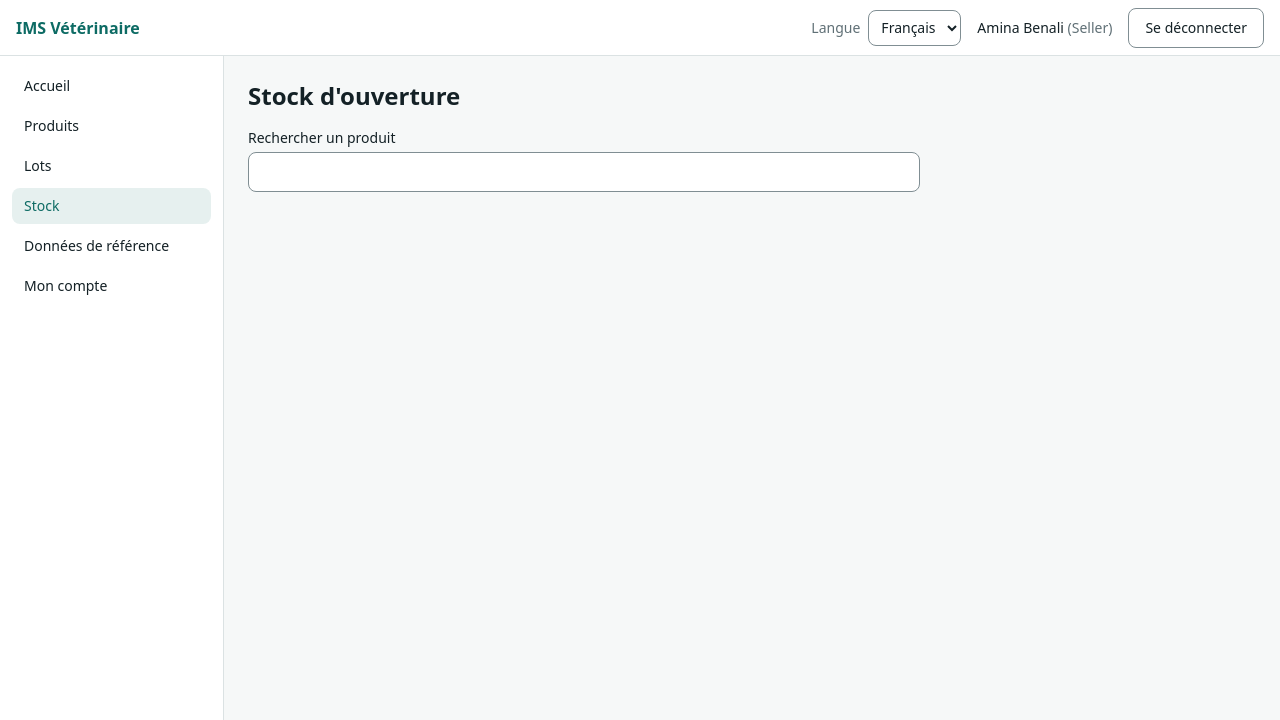
Test: opening stock (ADR-082…084) › enters a lot with a month expiry, a unit and the prefilled cost
This screenshot has width=1280, height=720.
In the search field labelled "Rechercher un produit": (584, 172) [248, 152, 920, 192], type "amox"
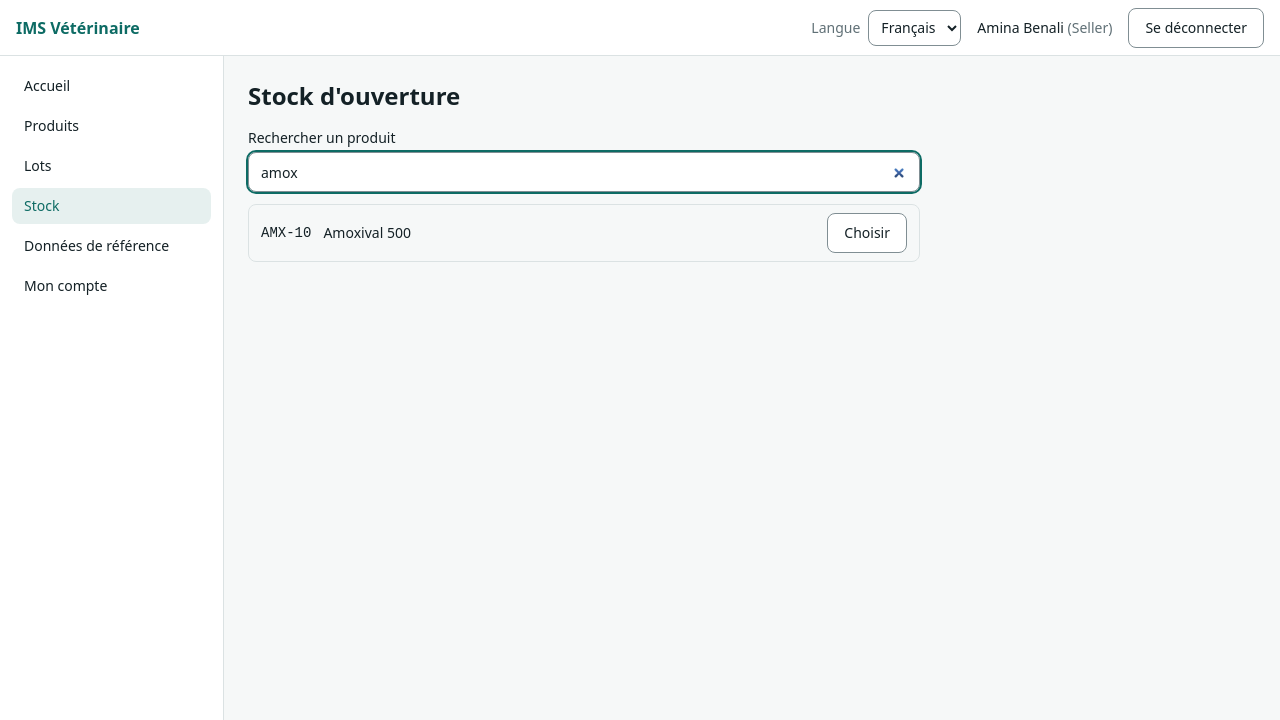
Click the button with aria-label "Choisir Amoxival 500": (867, 233) [827, 213, 907, 253]
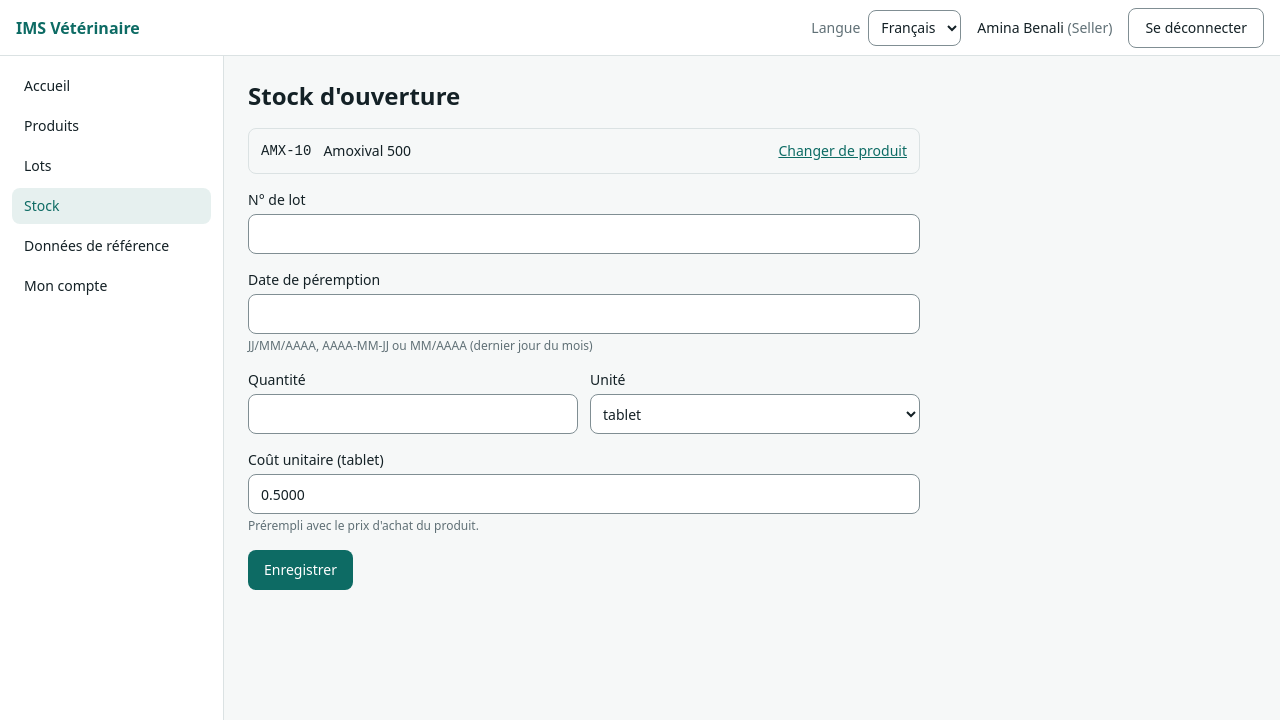
In the field labelled "N° de lot": (584, 234) [248, 214, 920, 254], type "OPEN-1"
In the field labelled "Date de péremption": (584, 314) [248, 294, 920, 334], type "05/2027"
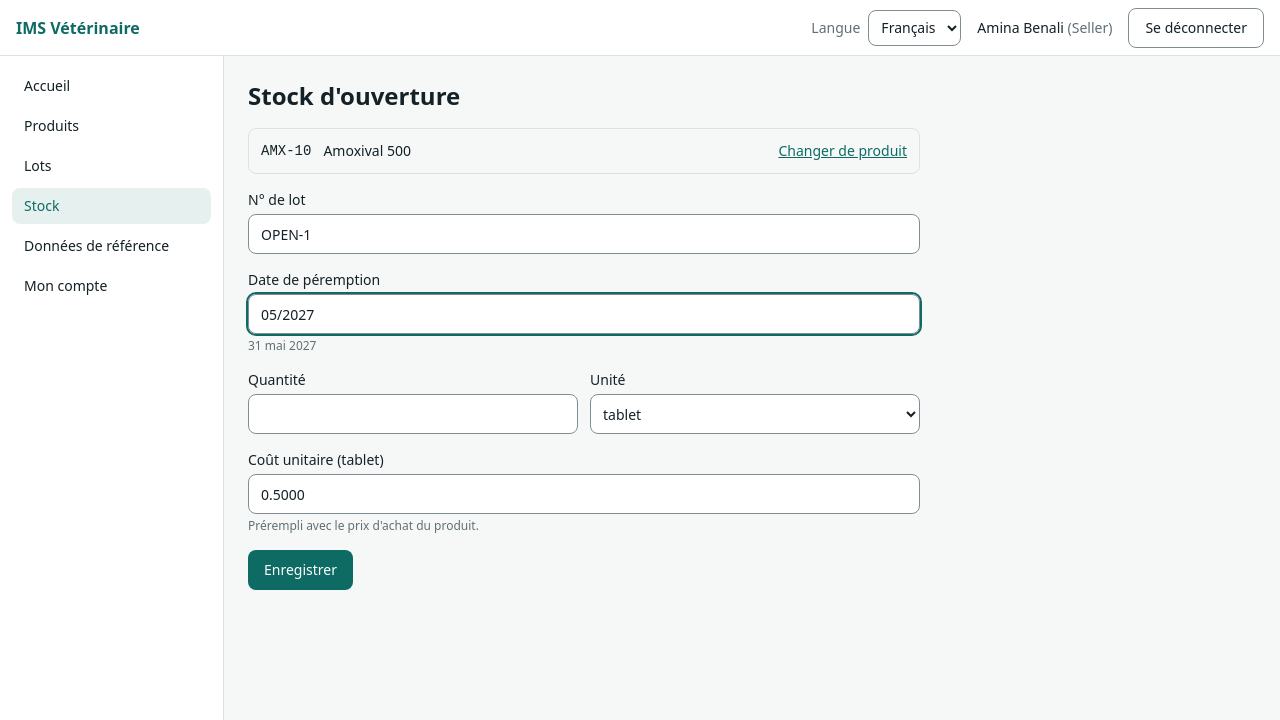
In the field labelled "Quantité": (413, 414) [248, 394, 578, 434], type "2"
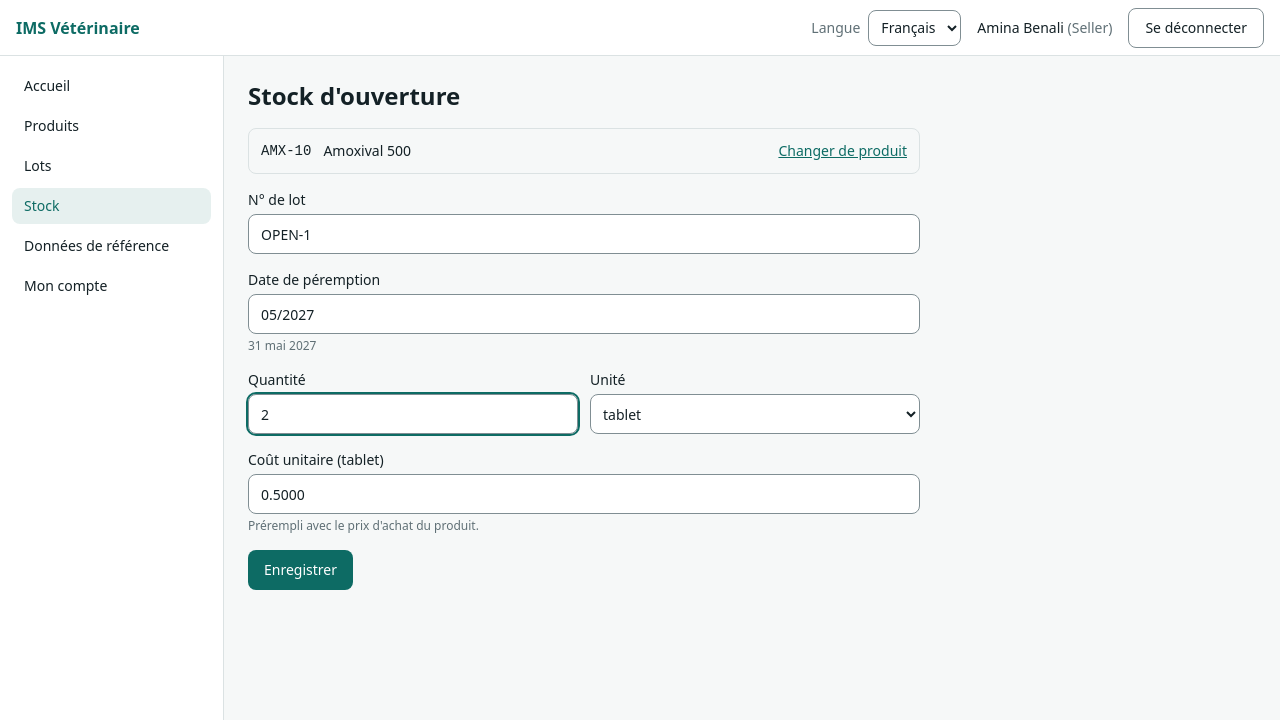
Select "Box (30.0000 tablet)" in the dropdown labelled "Unité": (755, 414) [590, 394, 920, 434]
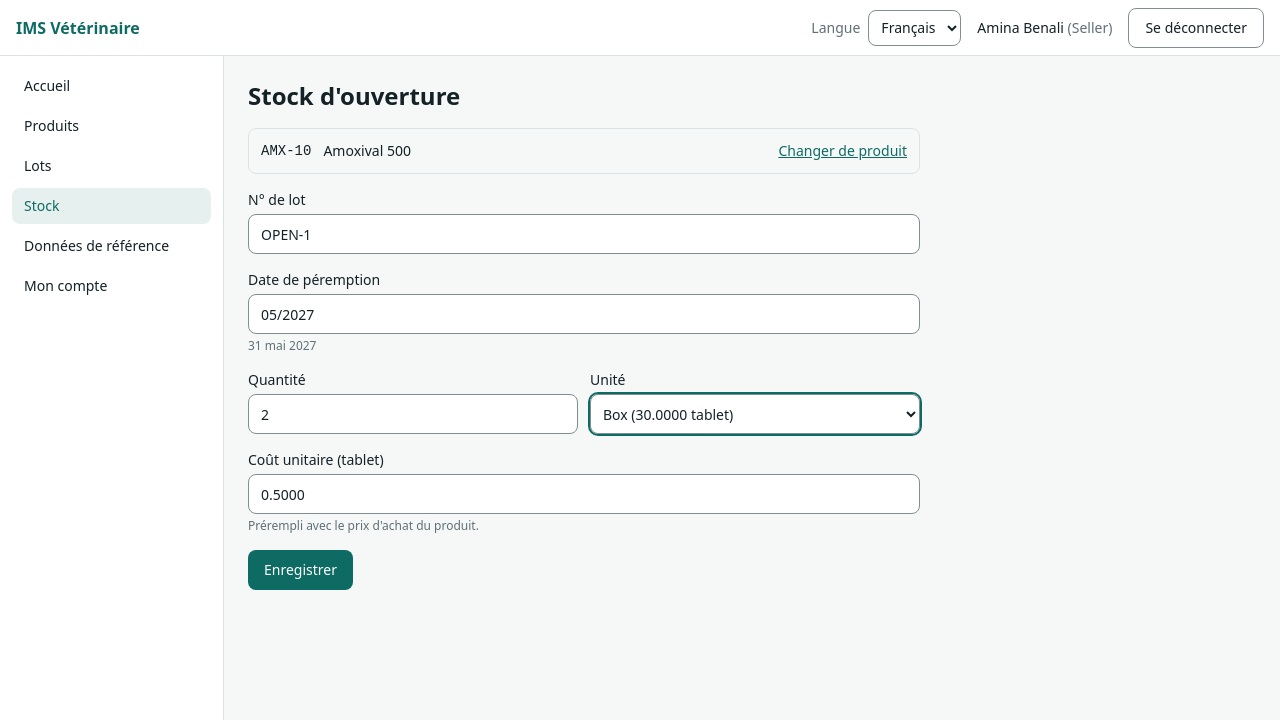
Result: the field labelled "Coût unitaire (tablet)" holds "0.5000" at [248, 474, 920, 514]
Click the button "Enregistrer": (300, 570) [248, 550, 353, 590]
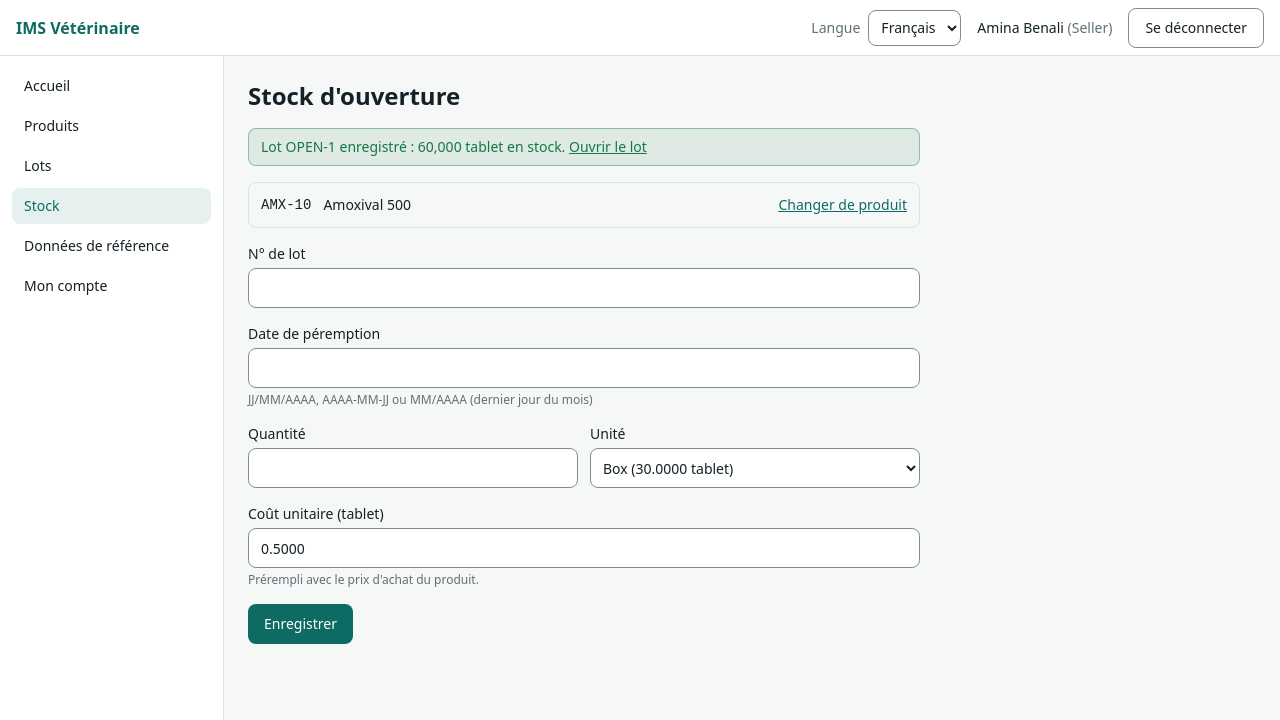
Result: the text "Lot OPEN-1 enregistré : 60,000 tablet en stock. Ouvrir le lot" is shown at [248, 128, 920, 166]
Result: the field labelled "N° de lot" is empty at [248, 268, 920, 308]
